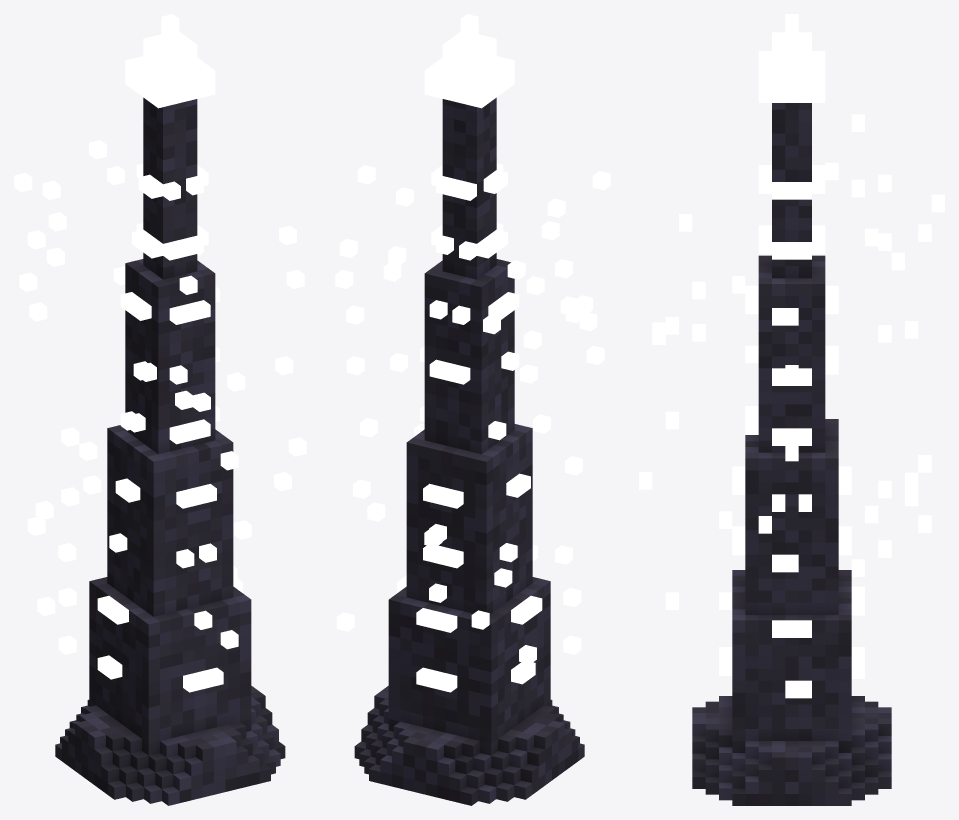
The model's file is u_obelisque.glb.
The picture shows the model from 3 angles, left to right: view 1: azimuth 30°, elevation 25°; view 2: azimuth 150°, elevation 25°; view 3: azimuth 270°, elevation 25°; orthographic projection.
Parts seen in each view (by area): view 1: obelisque_body, obelisque_glow; view 2: obelisque_body, obelisque_glow; view 3: obelisque_body, obelisque_glow.
Boxes of the visible parts, <box> form: obelisque_body: <box>55,97,285,805</box>; obelisque_glow: <box>14,14,306,692</box>; obelisque_body: <box>354,97,584,805</box>; obelisque_glow: <box>335,14,610,692</box>; obelisque_body: <box>692,103,891,805</box>; obelisque_glow: <box>639,14,944,698</box>.
Bounding box in the file's own units: 1.15 × 3.1 × 1.15.
